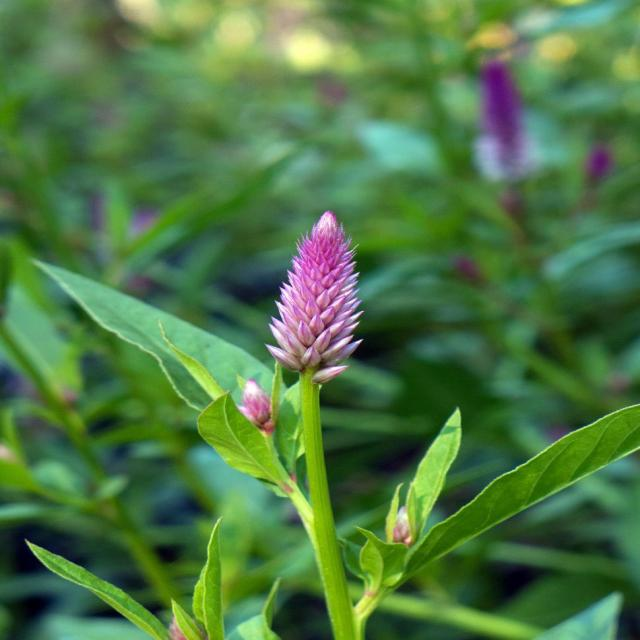Celosia-Argentea: (260, 210, 364, 386)
